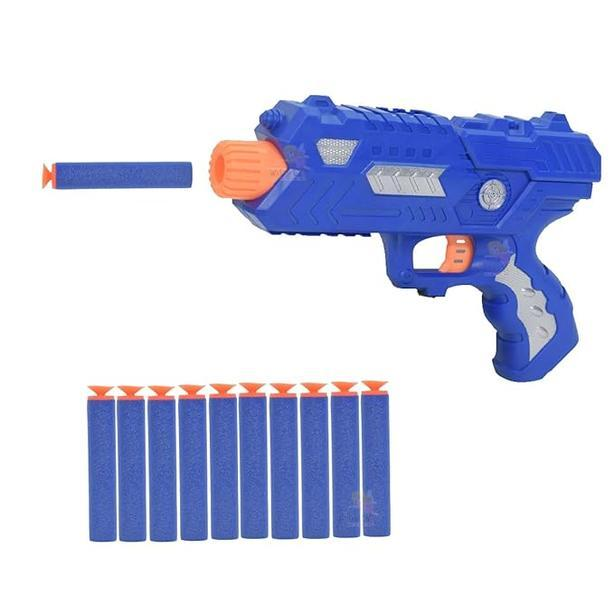Firearm: (200, 85, 600, 396)
